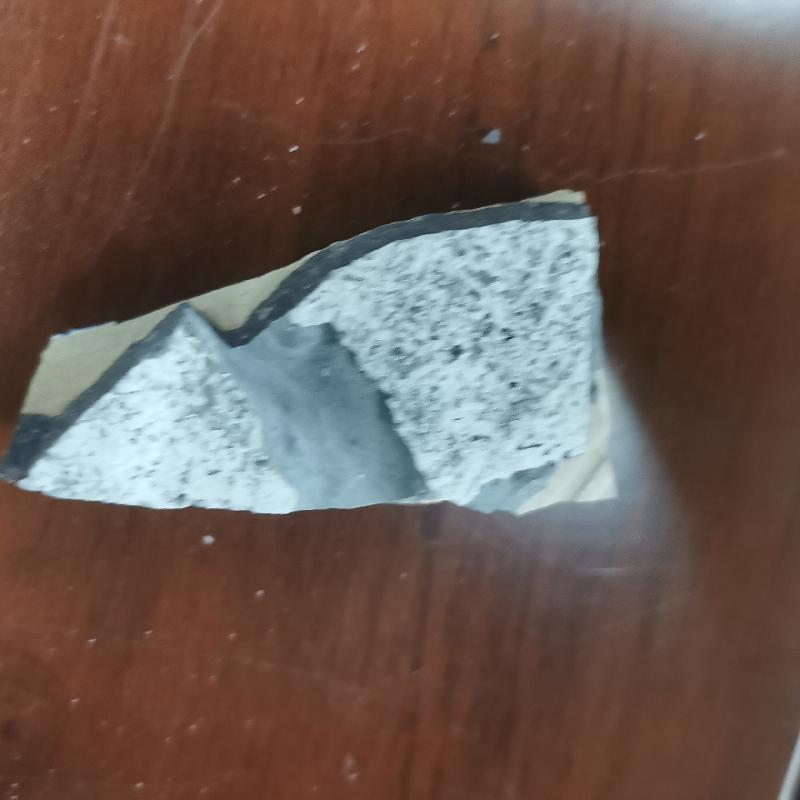tile: (19, 183, 627, 518)
